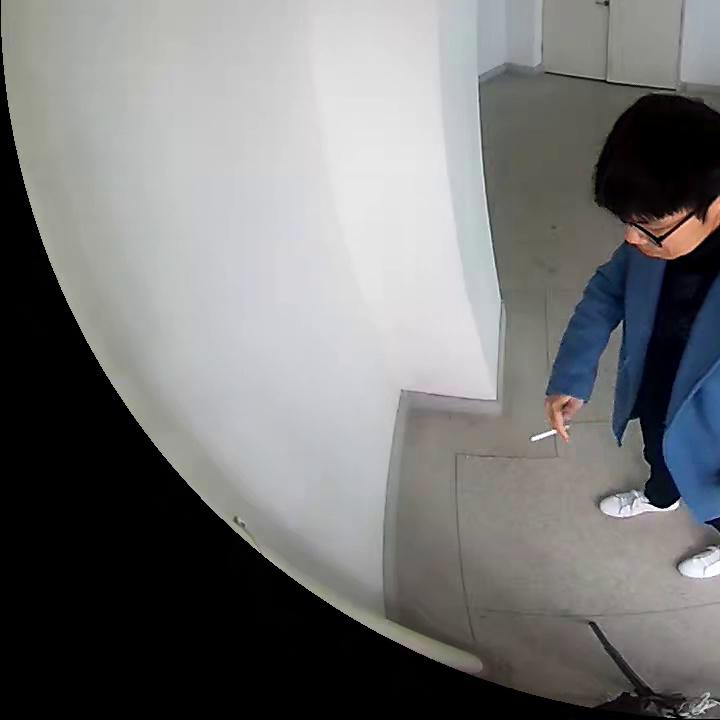handsmoke: (530, 399, 583, 443)
mouthwithoutsmoke: (592, 94, 720, 261)
